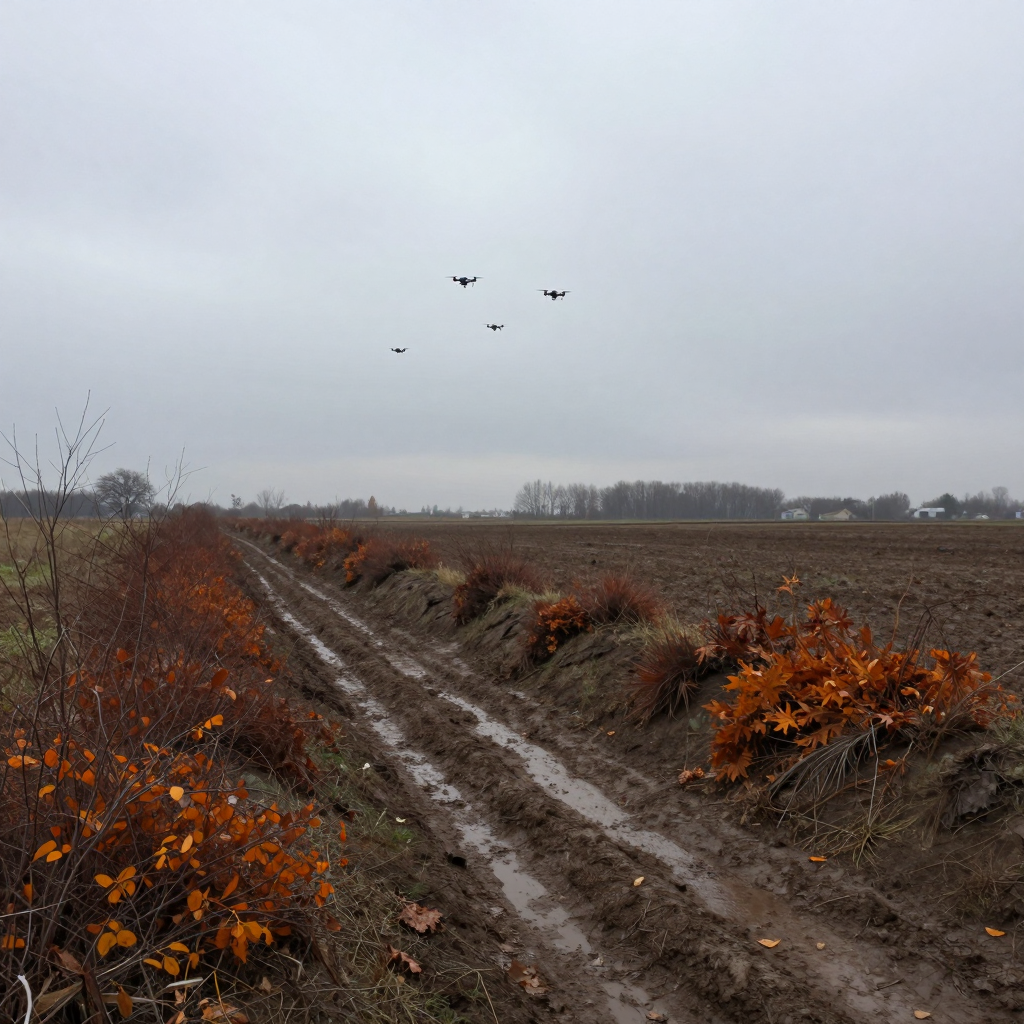drone: (446, 276, 484, 288), (536, 289, 571, 301), (484, 324, 504, 332), (390, 348, 410, 354)
